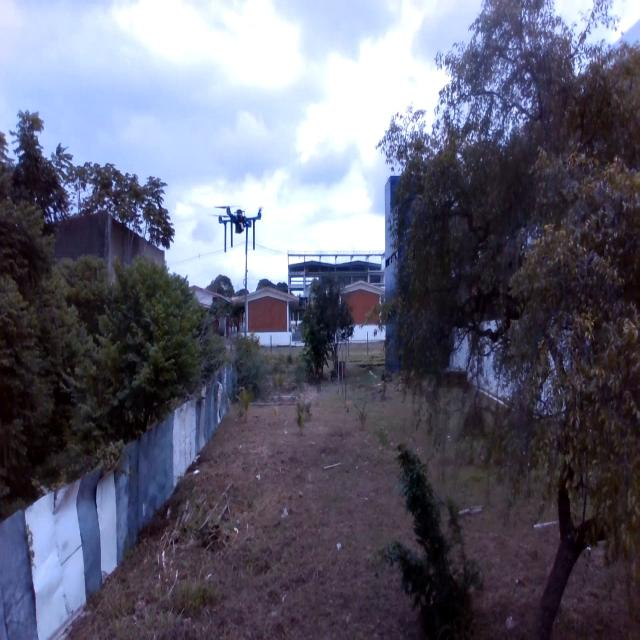-uav-: (202, 194, 274, 262)
